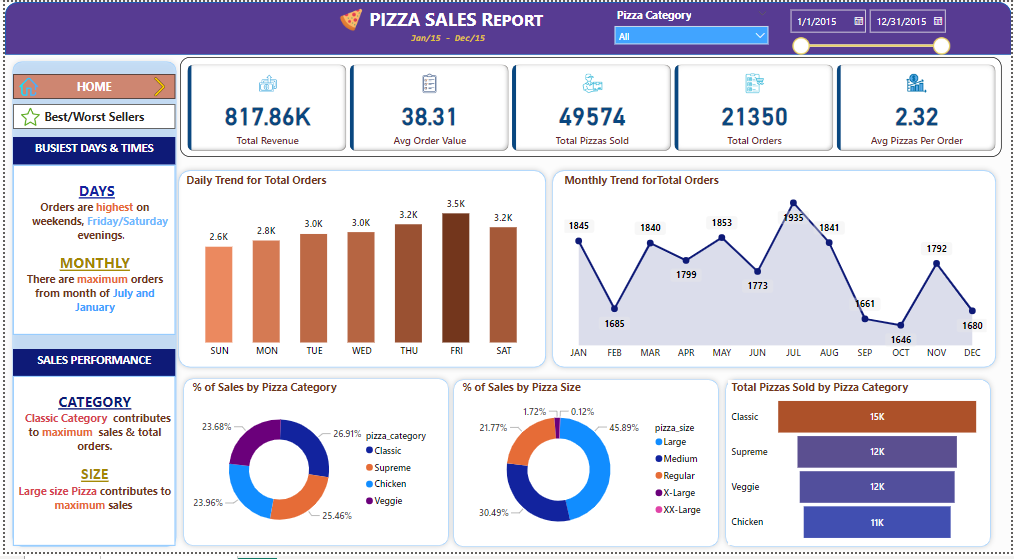

This screenshot's page, from the dashboard's own definition file:
{"tool":"powerbi","page":{"name":"HOME","canvas":[1500,820],"ordinal":0},"visuals":[{"type":"cardVisual","fields":{"Data":["pizza_sales.Total Revenue","pizza_sales.Avg Order Value","pizza_sales.Total Pizzas Sold","pizza_sales.Total Orders","pizza_sales.Avg Pizzas Per Order"]},"box":[260.8,82,1225.1,149.2],"z":0},{"type":"shape","box":[0,0,1500.6,78.7],"z":1000},{"type":"image","box":[480.5,4.9,72.2,44.3],"z":2000},{"type":"textbox","box":[480.5,1.6,385.4,59],"z":3000},{"type":"textbox","box":[533,39.4,252.6,36.1],"z":4000},{"type":"shape","box":[250.9,242.7,564.2,310],"z":5000},{"type":"columnChart","title":"Daily Trend for Total Orders","fields":{"Category":["pizza_sales.Order Day"],"Y":["pizza_sales.Total Orders"]},"box":[265.7,254.2,533,283.7],"z":6000},{"type":"shape","box":[808.5,242.7,677.3,310],"z":7000},{"type":"areaChart","title":"Monthly Trend forTotal Orders ","fields":{"Category":["pizza_sales.Order Month"],"Y":["pizza_sales.Total Orders"]},"box":[828.2,254.2,639.6,287],"z":8000},{"type":"shape","box":[660.9,554.3,411.6,265.7],"z":10000},{"type":"shape","box":[1066,554.3,411.6,265.7],"z":11000},{"type":"donutChart","title":"% of  Sales by Pizza Size","fields":{"Category":["pizza_sales.pizza_size"],"Y":["pizza_sales.Total Revenue"]},"box":[677.3,564.2,378.8,246],"z":13000},{"type":"funnel","title":"Total Pizzas Sold by Pizza Category","fields":{"Category":["pizza_sales.pizza_category"],"Y":["pizza_sales.Total Pizzas Sold"]},"box":[1078.6,564.3,380,245.7],"z":14000},{"type":"shape","box":[3.3,80.4,260.8,739.6],"z":15000},{"type":"textbox","box":[11.5,201.7,242,41],"z":16000},{"type":"textbox","box":[11.5,242.7,242,252.6],"z":17000},{"type":"textbox","box":[11.5,516.6,242,41],"z":18000},{"type":"textbox","box":[11.5,557.6,242,252.6],"z":19000},{"type":"shape","box":[257.5,552.7,411.6,265.7],"z":19001},{"type":"donutChart","title":"% of  Sales by Pizza Category","fields":{"Category":["pizza_sales.pizza_category"],"Y":["pizza_sales.Total Revenue"]},"box":[273.9,564.2,380.5,246],"z":19002},{"type":"slicer","fields":{"Values":["pizza_sales.pizza_category"]},"box":[898.7,3.3,249.3,72.2],"z":19003},{"type":"slicer","fields":{"Values":["pizza_sales.order_date"]},"box":[1157.8,1.6,259.1,93.5],"z":19004},{"type":"pageNavigator","box":[11.5,106.6,242.7,37],"z":19005},{"type":"pageNavigator","box":[11.5,152.5,242.7,37.7],"z":19006},{"type":"image","box":[205,106.6,50,37.7],"z":19007},{"type":"image","box":[11.5,152.5,52.5,37.7],"z":19008},{"type":"image","box":[9.8,106.6,50,37.7],"z":19009}]}

Visuals, with their boxes in screenshot pixels (x1, y1, x2, y2), scaled from the page's 1500x820 canvas onto the 1014x559 screenshot:
cardVisual - pizza_sales.Total Revenue x pizza_sales.Avg Order Value: <bbox>176, 56, 1004, 158</bbox>
shape: <bbox>0, 0, 1013, 54</bbox>
image: <bbox>325, 3, 374, 34</bbox>
textbox: <bbox>325, 1, 585, 41</bbox>
textbox: <bbox>360, 27, 531, 51</bbox>
shape: <bbox>170, 165, 551, 377</bbox>
"Daily Trend for Total Orders" columnChart: <bbox>180, 173, 540, 367</bbox>
shape: <bbox>547, 165, 1004, 377</bbox>
"Monthly Trend forTotal Orders " areaChart: <bbox>560, 173, 992, 369</bbox>
shape: <bbox>447, 378, 725, 558</bbox>
shape: <bbox>721, 378, 999, 558</bbox>
"% of  Sales by Pizza Size" donutChart: <bbox>458, 385, 714, 552</bbox>
"Total Pizzas Sold by Pizza Category" funnel: <bbox>729, 385, 986, 552</bbox>
shape: <bbox>2, 55, 179, 558</bbox>
textbox: <bbox>8, 138, 171, 165</bbox>
textbox: <bbox>8, 165, 171, 338</bbox>
textbox: <bbox>8, 352, 171, 380</bbox>
textbox: <bbox>8, 380, 171, 552</bbox>
shape: <bbox>174, 377, 452, 558</bbox>
"% of  Sales by Pizza Category" donutChart: <bbox>185, 385, 442, 552</bbox>
slicer - pizza_sales.pizza_category: <bbox>608, 2, 776, 51</bbox>
slicer - pizza_sales.order_date: <bbox>783, 1, 958, 65</bbox>
pageNavigator: <bbox>8, 73, 172, 98</bbox>
pageNavigator: <bbox>8, 104, 172, 130</bbox>
image: <bbox>139, 73, 172, 98</bbox>
image: <bbox>8, 104, 43, 130</bbox>
image: <bbox>7, 73, 40, 98</bbox>
